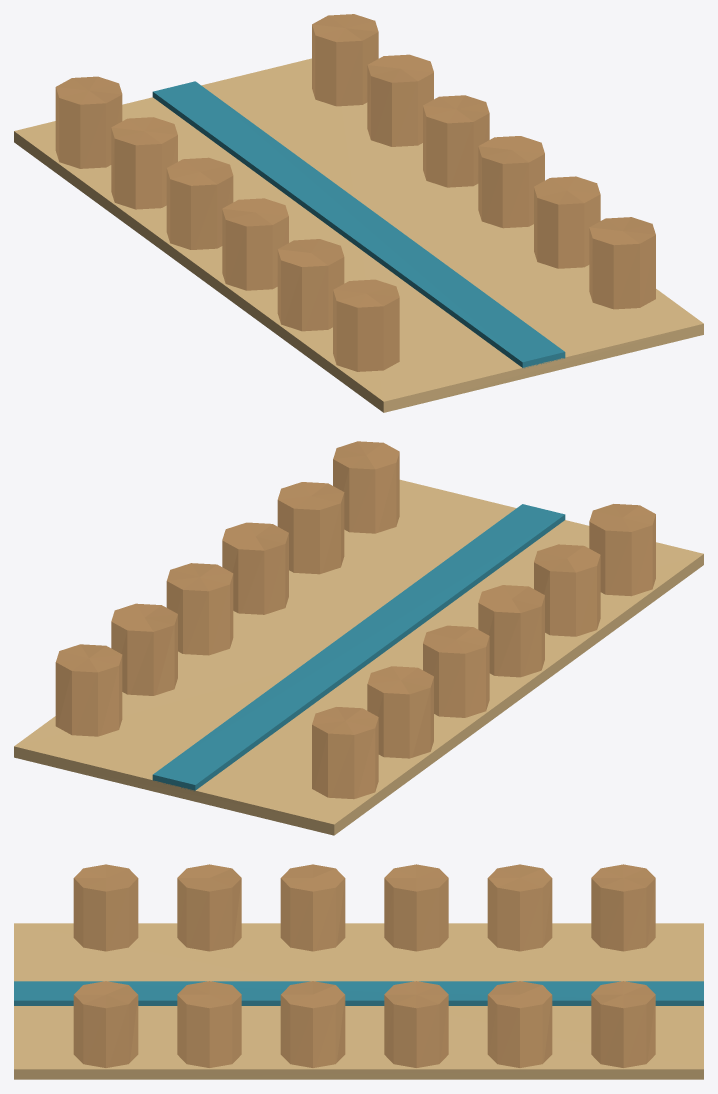
File: Wildlife-corridor.glb
The picture shows the model from 3 angles, top to bottom: view 1: azimuth 30°, elevation 25°; view 2: azimuth 150°, elevation 25°; view 3: azimuth 270°, elevation 25°; orthographic projection. The views are drawn at different scales.
Visible parts, largest first — view 1: wildlife-corridor-static-, wildlife-corridor-static-wildlife-corridor-earth, wildlife-corridor-static-wildlife-corridor-water; view 2: wildlife-corridor-static-, wildlife-corridor-static-wildlife-corridor-earth, wildlife-corridor-static-wildlife-corridor-water; view 3: wildlife-corridor-static-, wildlife-corridor-static-wildlife-corridor-earth, wildlife-corridor-static-wildlife-corridor-water.
Boxes of the visible parts, x1,y1,x2,y2 form: wildlife-corridor-static-: (55,14,655,371); wildlife-corridor-static-wildlife-corridor-earth: (14,58,703,412); wildlife-corridor-static-wildlife-corridor-water: (152,81,565,368); wildlife-corridor-static-: (55,441,655,799); wildlife-corridor-static-wildlife-corridor-earth: (14,479,703,835); wildlife-corridor-static-wildlife-corridor-water: (152,504,565,791); wildlife-corridor-static-: (73,864,655,1067); wildlife-corridor-static-wildlife-corridor-earth: (14,923,703,1079); wildlife-corridor-static-wildlife-corridor-water: (14,981,703,1005).
Size of the model in its own units: 3 by 0.675 by 6.
